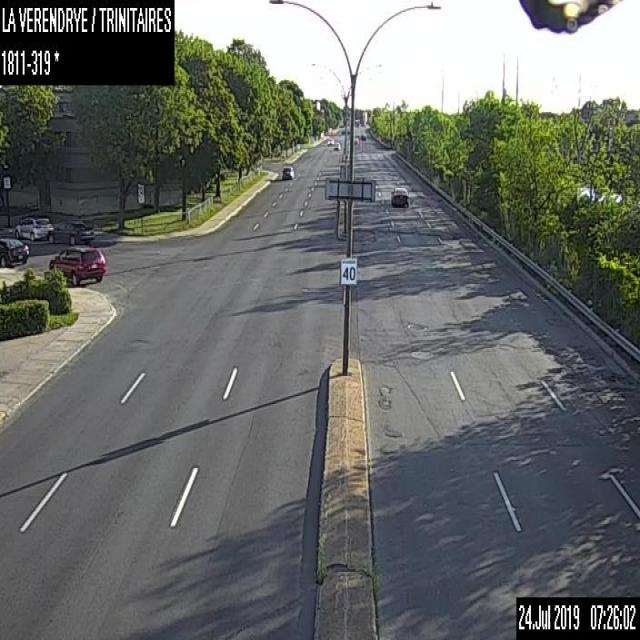vehicle: (48, 245, 105, 285), (46, 220, 94, 245), (14, 215, 54, 241), (0, 237, 28, 266), (390, 186, 408, 207), (281, 166, 294, 178), (326, 137, 334, 145), (333, 140, 340, 149), (360, 132, 365, 139)
